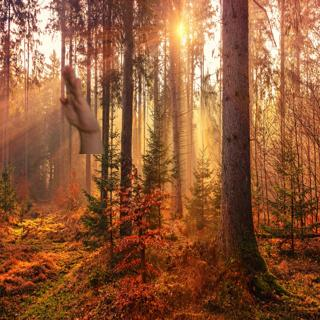RIGHT: (54, 63, 99, 134)
